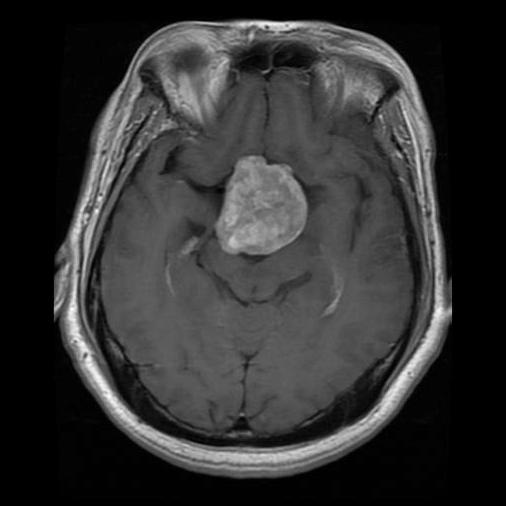Tumour-Pituitary: (214, 150, 311, 262)
